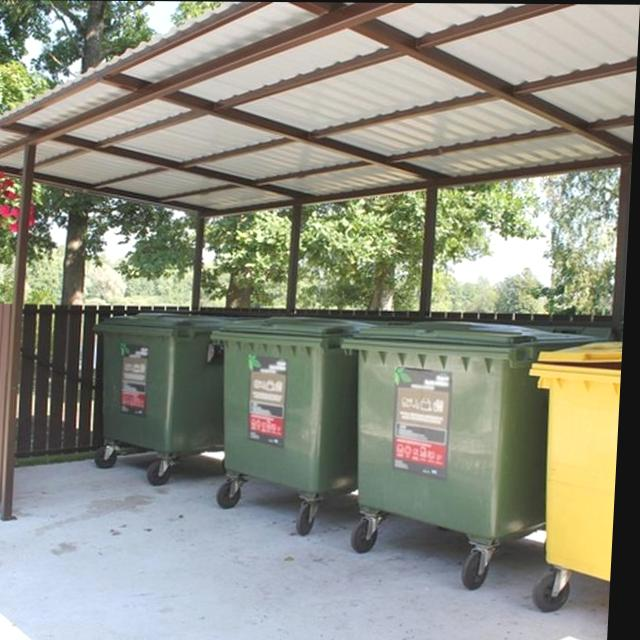Trash_Can_Closed: (339, 318, 609, 546), (209, 313, 381, 494), (523, 337, 626, 581), (92, 311, 246, 460)
